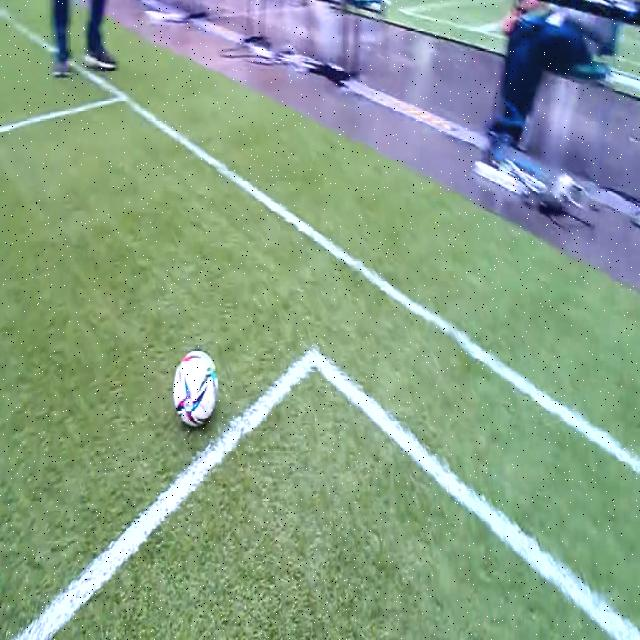ball: (173, 349, 218, 426)
